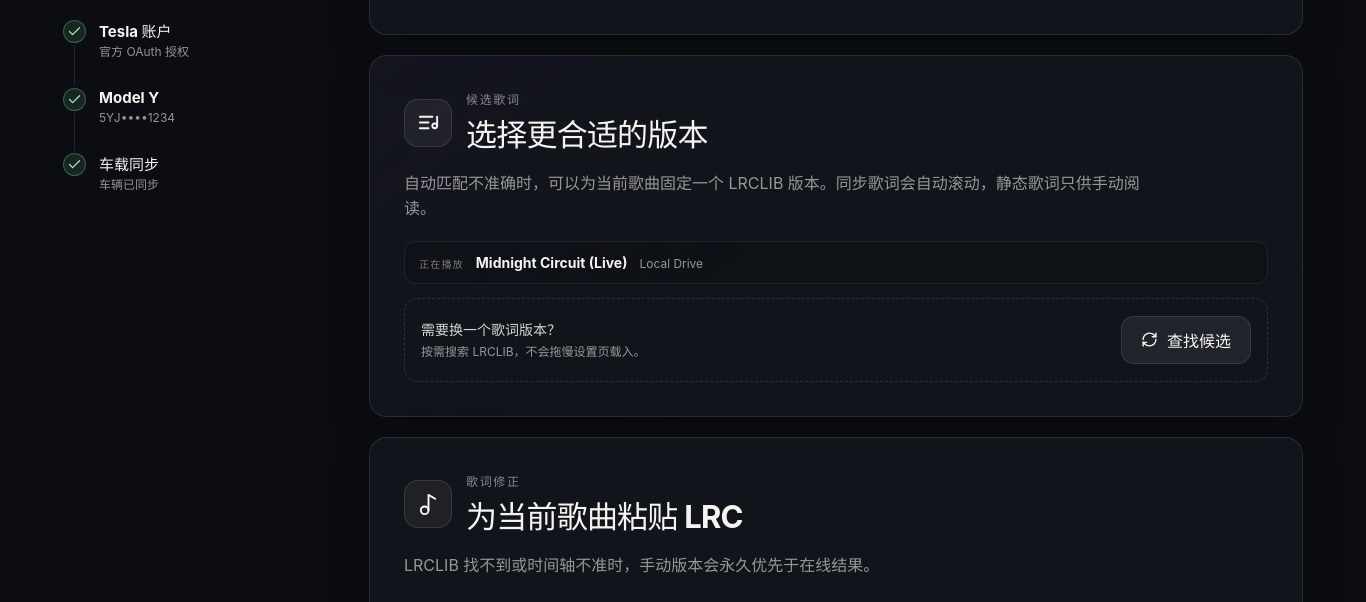
Test: SetupPage lyrics candidates › shows a recoverable empty state
(page scrolled)
Click the button "查找候选": [1186, 340] box [1121,316,1251,364]
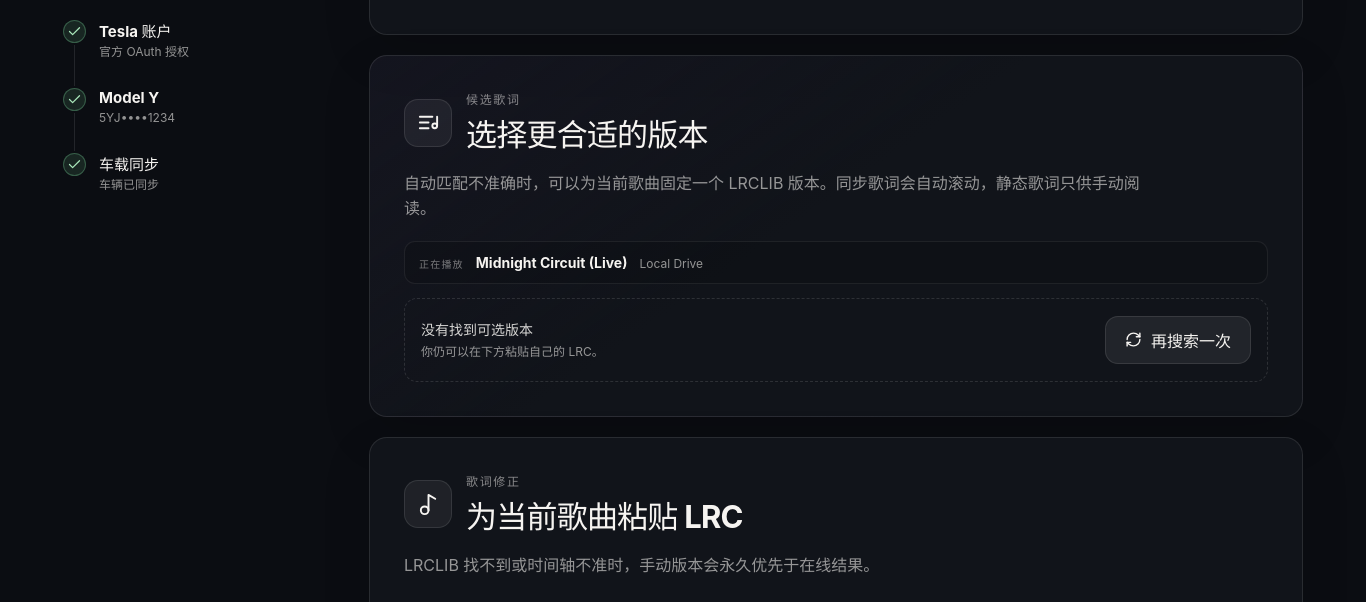
Check: the text "没有找到可选版本" is shown, box [421,321,533,338]
Check: the button "再搜索一次" is shown, box [1105,316,1251,364]
